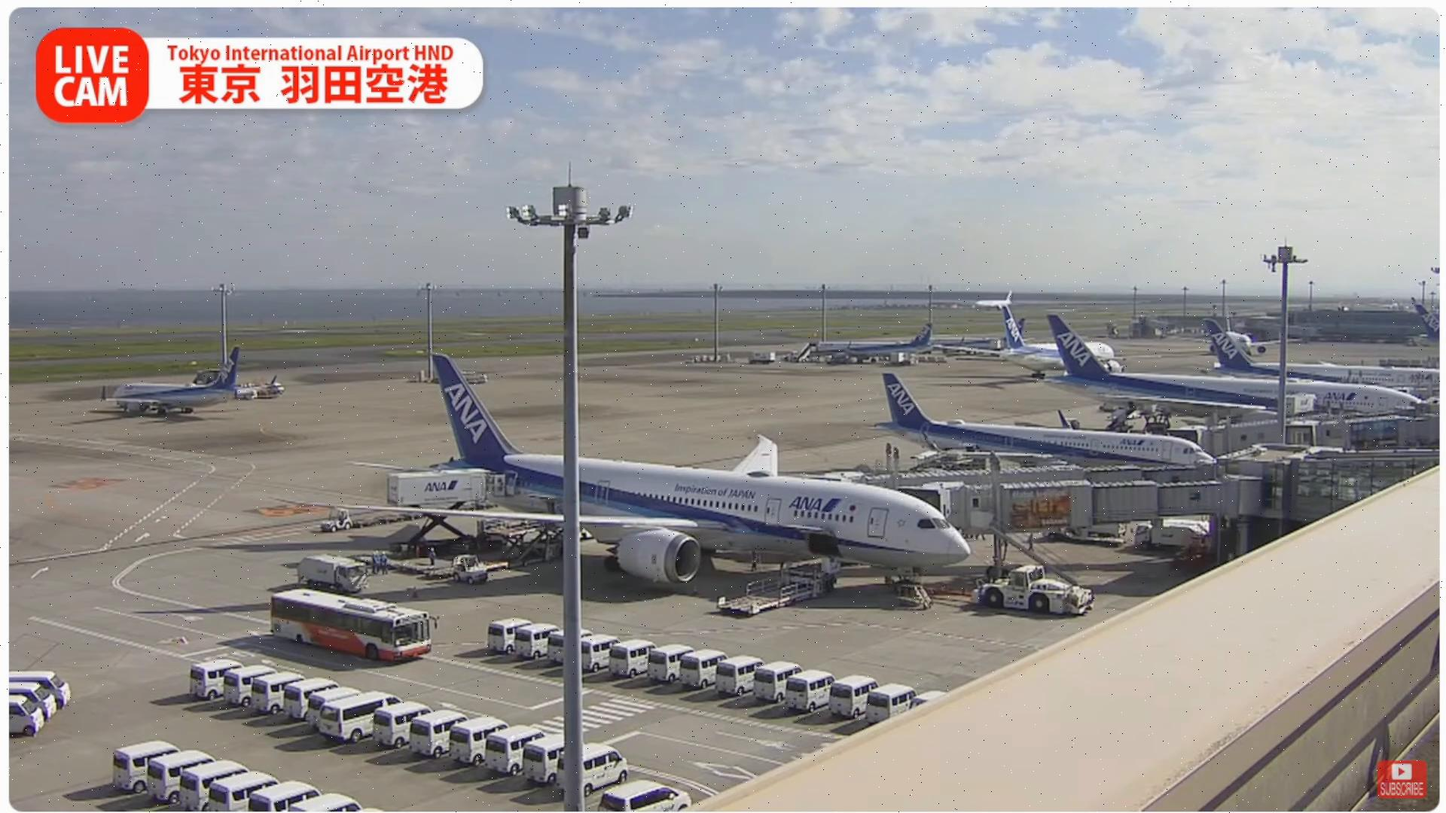APS: (969, 564, 1106, 619)
Aerobridge: (908, 457, 1217, 520), (983, 476, 1264, 540)
Airplane: (330, 354, 973, 599)
Baggage truck: (281, 540, 376, 598)
Catering: (387, 467, 515, 558)
Dolly: (359, 551, 456, 578), (352, 510, 428, 529)
JCPL: (715, 552, 839, 619), (481, 516, 567, 568)
Tractor: (452, 551, 489, 584), (321, 503, 354, 534)
Window: (1290, 456, 1440, 523)
